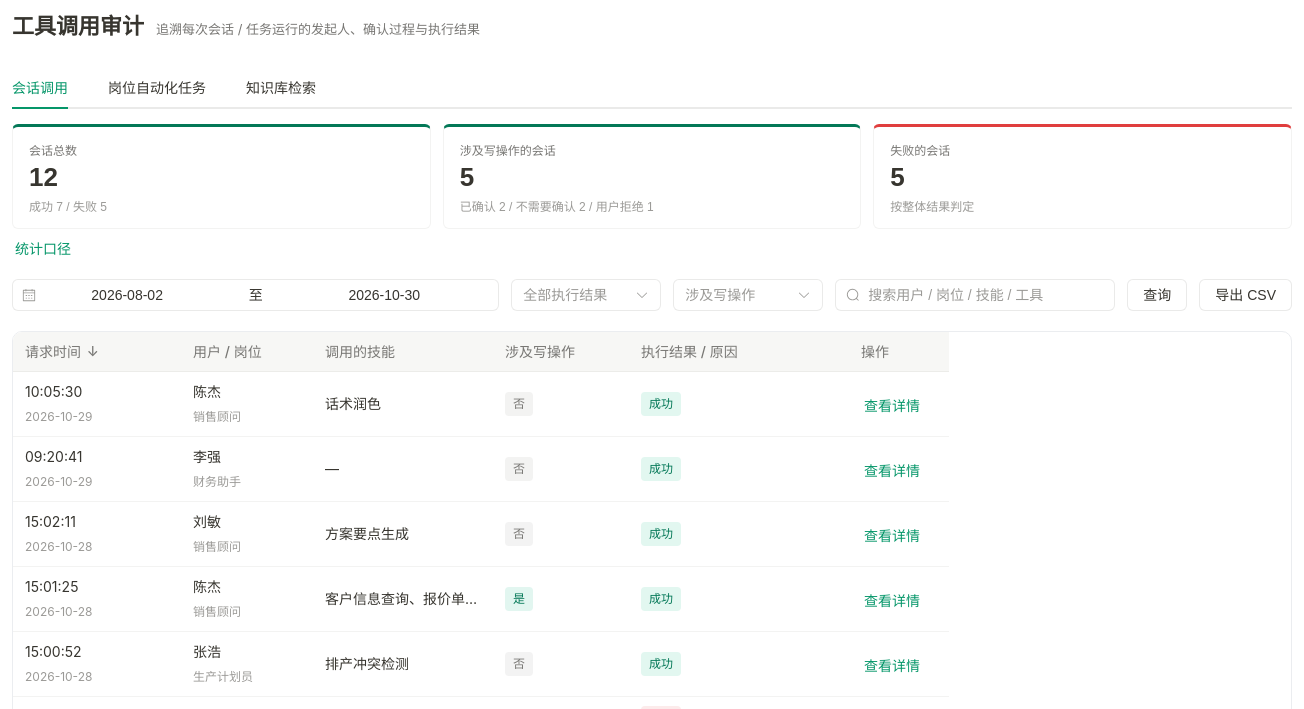
Test: 查询区（§三） › 搜索框按用户 / 岗位 / 技能 / 工具标识模糊过滤
Type "张浩" into the field with placeholder "搜索用户 / 岗位 / 技能 / 工具" at point(986, 295), box [868,280,1104,310]
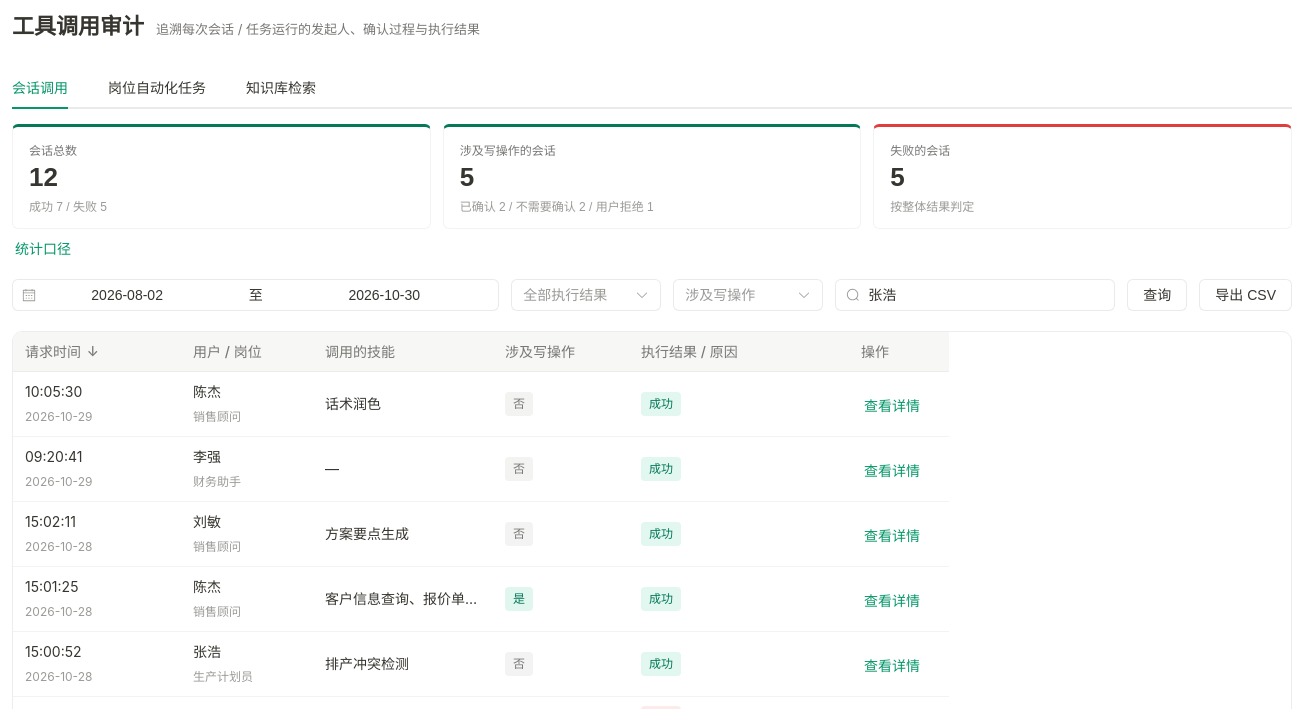
Press Enter in the field with placeholder "搜索用户 / 岗位 / 技能 / 工具", box [868,280,1104,310]
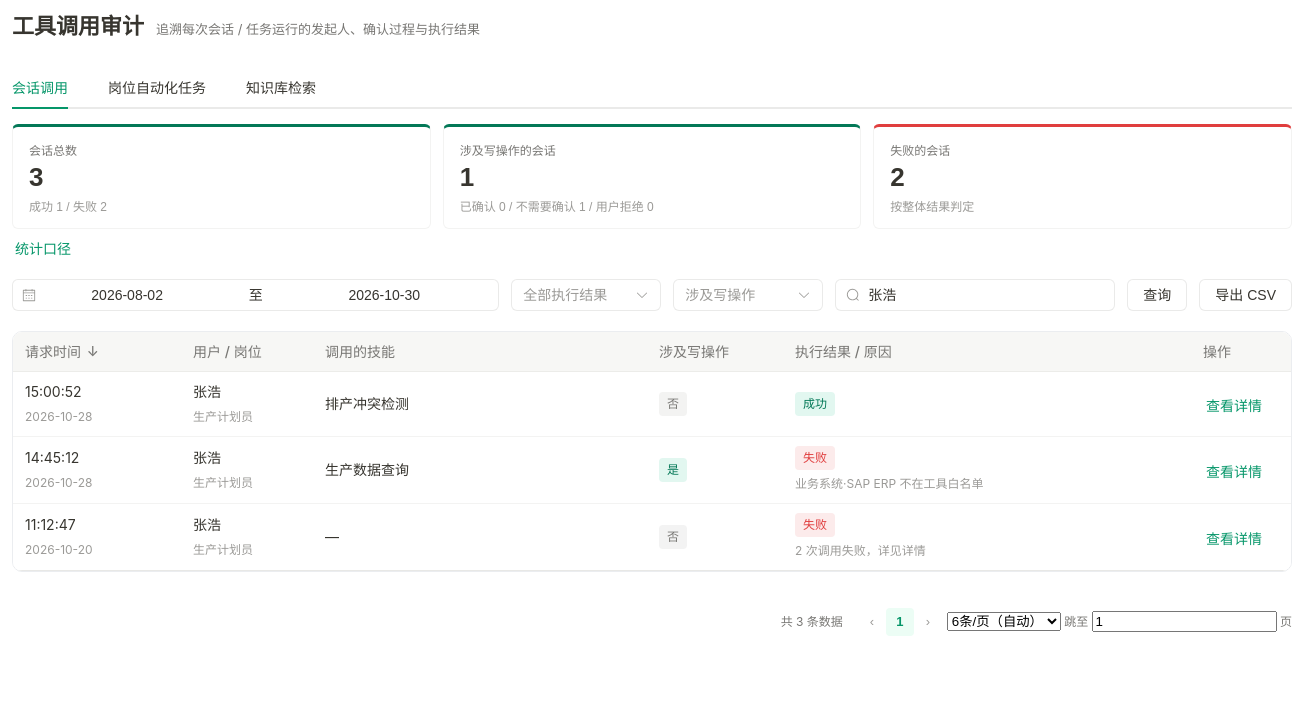
Check: the row "15:00:52 2026-10-28 张浩 生产计划员 排产冲突检测 否 成功 查看详情" is shown, box [13,372,1291,437]
Check: the row that starts with "生产计划员" shows "张浩", box [193,449,221,466]
Check: the row "11:12:47 2026-10-20 张浩 生产计划员 — 否 失败 2 次调用失败，详见详情 查看详情" is shown, box [13,504,1291,571]
